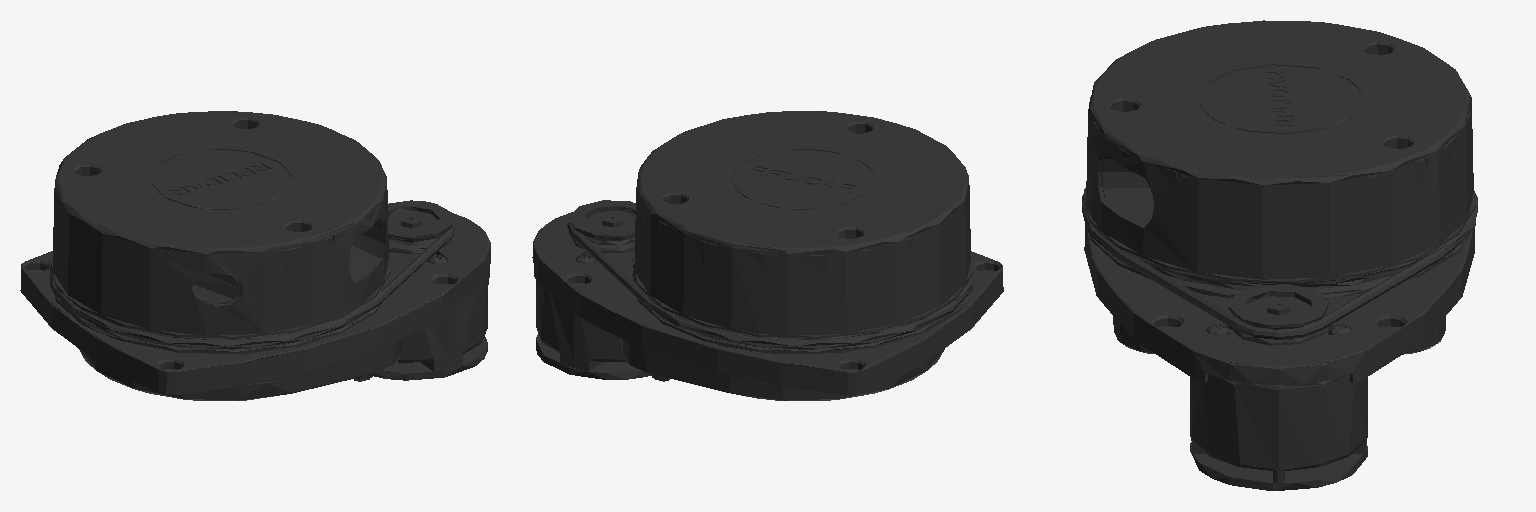
robot.urdf — kubot_description:
<robot
  name="kubot_description">
  <link
    name="base_link">
    <inertial>
      <origin
        xyz="0 0 0"
        rpy="0 0 0" />
      <mass
        value="2.9392" />
      <inertia
        ixx="0.021823"
        ixy="-1.8374E-07"
        ixz="0.00017413"
        iyy="0.031589"
        iyz="3.2827E-09"
        izz="0.043906" />
    </inertial>
    <visual>
      <origin
        xyz="0 0 0"
        rpy="0 0 0" />
      <geometry>
        <mesh
          filename="package://kubot_description/meshes/hades/base_link.stl" />
      </geometry>
      <material
        name="">
        <color
          rgba="0.1 0.1 0.1 1" />
      </material>
    </visual>
    <collision>
      <origin
        xyz="0 0 0"
        rpy="0 0 0" />
      <geometry>
        <mesh
          filename="package://kubot_description/meshes/hades/base_link.stl" />
      </geometry>
    </collision>
  </link>
  <link
    name="laser_link">
    <inertial>
      <origin
        xyz="0 0 0"
        rpy="0 0 3.14" />
      <mass
        value="0.17932" />
      <inertia
        ixx="8.4489E-05"
        ixy="7.2842E-12"
        ixz="3.6373E-06"
        iyy="7.9944E-05"
        iyz="-3.7959E-10"
        izz="0.00011884" />
    </inertial>
    <visual>
      <origin
        xyz="0 0 0"
        rpy="0 0 3.14" />
      <geometry>
        <mesh
          filename="package://kubot_description/meshes/hades/laser_link.stl" />
      </geometry>
      <material
        name="">
        <color
          rgba="0.25 0.25 0.25 1.2" />
      </material>
    </visual>
    <collision>
      <origin
        xyz="0 0 0"
        rpy="0 0 3.14" />
      <geometry>
        <mesh
          filename="package://kubot_description/meshes/hades/laser_link.stl" />
      </geometry>
    </collision>
  </link>
  <joint
    name="laser_link_joint"
    type="fixed">
    <origin
      xyz="0 0 0.086"
      rpy="0 0 3.14" />
    <parent
      link="base_link" />
    <child
      link="laser_link" />
    <axis
      xyz="0 0 0" />
  </joint>
  <link
    name="camera_link">
    <inertial>
      <origin
        xyz="-0.0017532 9.7056E-08 0.018369"
        rpy="0 0 0" />
      <mass
        value="0.17932" />
      <inertia
        ixx="8.4489E-05"
        ixy="7.2842E-12"
        ixz="3.6373E-06"
        iyy="7.9944E-05"
        iyz="-3.7959E-10"
        izz="0.00011884" />
    </inertial>
    <visual>
      <origin
        xyz="0 0 0"
        rpy="1.57 0 1.57" />
      <geometry>
        <mesh
          filename="package://kubot_description/meshes/sensor/astra.dae" />
      </geometry>
      <material
        name="">
        <color
          rgba="0.25 0.25 0.25 1.2" />
      </material>
    </visual>
    <collision>
      <origin
        xyz="0 0 0"
        rpy="0 0 0" />
      <geometry>
        <mesh
          filename="package://kubot_description/meshes/sensor/astra.dae" />
      </geometry>
    </collision>
  </link>
  <joint
    name="camera_link_joint"
    type="fixed">
    <origin
      xyz="-0.1 0 0.125"
      rpy="1.2246E-16 -6.123E-17 0" />
    <parent
      link="base_link" />
    <child
      link="camera_link" />
    <axis
      xyz="0 0 0" />
  </joint>
</robot>

--- What the picture shows (computed from the rendered views, not written in the file) ---
3 views of the same robot in one strip: view 1: azimuth 30°, elevation 25°; view 2: azimuth 150°, elevation 25°; view 3: azimuth 270°, elevation 25° (orthographic).
Model kubot_description with 3 links and 2 joints (2 fixed), rooted at base_link, posed all joints at 0.
Visible links, largest first — view 1: laser_link; view 2: laser_link; view 3: laser_link.
Boxes of the visible links, left/top/right/bottom form: laser_link: left=20, top=111, right=490, bottom=400; laser_link: left=532, top=111, right=1003, bottom=400; laser_link: left=1082, top=20, right=1477, bottom=490.
Bounding box of the posed robot: 0.0975 × 0.0713 × 0.0525 m (x, y, z).
Meshes: 3 distinct files referenced, 1 mesh visuals loaded (1 binary STL); not drawn: 2 (reference not matched to a file when rendering).